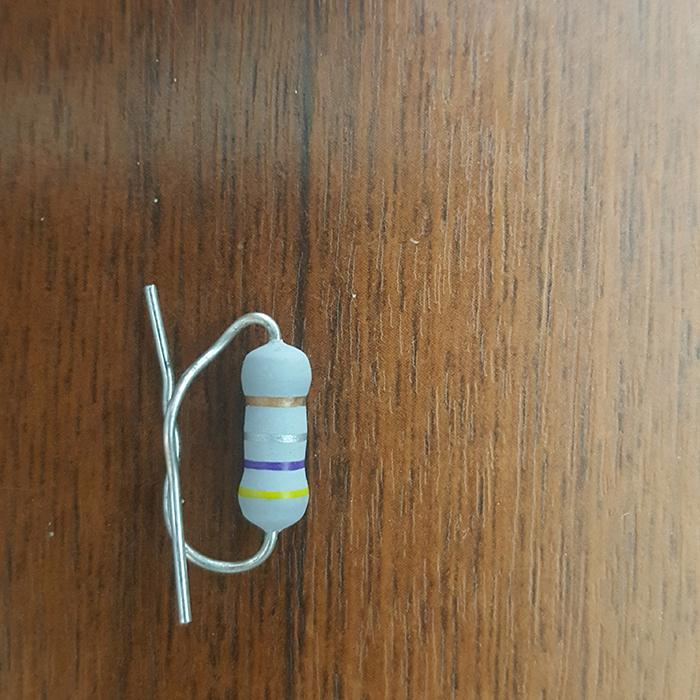resistor: (238, 338, 313, 532)
